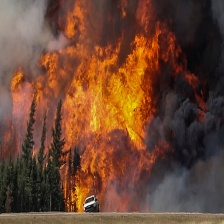fire: (25, 13, 166, 210)
smoke: (163, 1, 224, 212)
